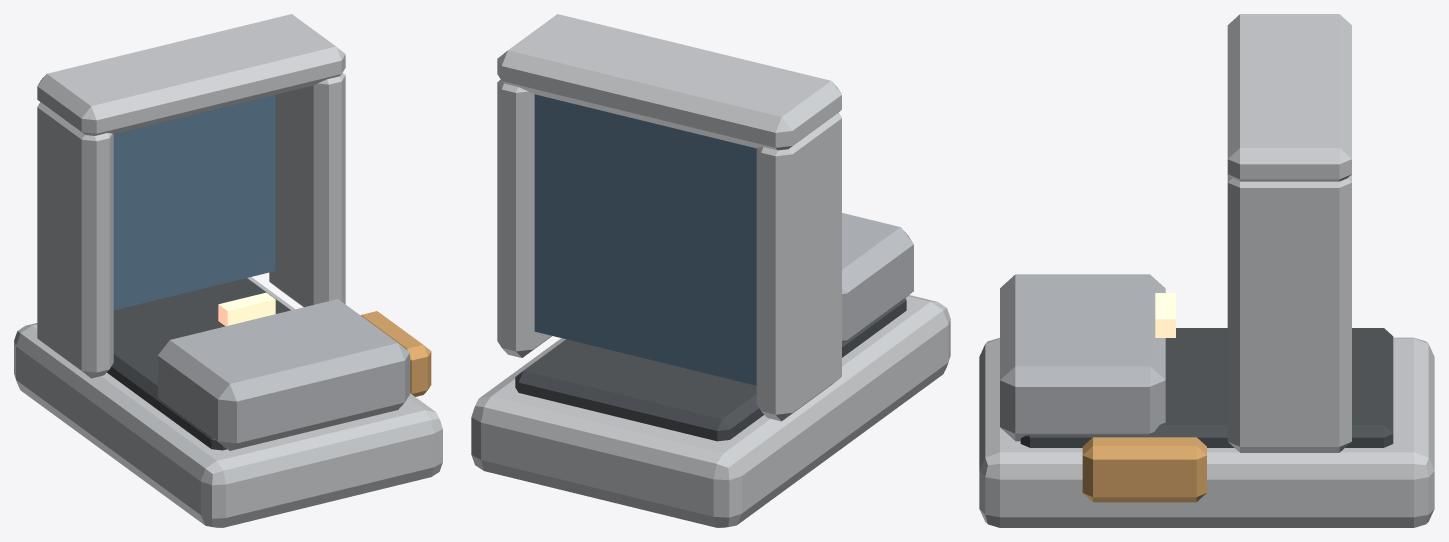
File: part_holo.glb
The picture shows the model from 3 angles, left to right: view 1: azimuth 30°, elevation 25°; view 2: azimuth 150°, elevation 25°; view 3: azimuth 270°, elevation 25°; orthographic projection. The views are drawn at different scales.
Parts seen in each view (by area): view 1: Holo; view 2: Holo; view 3: Holo.
Boxes of the visible parts, box(x1,y1,x2,y2) form: Holo: box(14, 14, 442, 527); Holo: box(471, 14, 950, 527); Holo: box(979, 14, 1434, 527).
Bounding box in the file's own units: 0.0355 × 0.0415 × 0.044.
